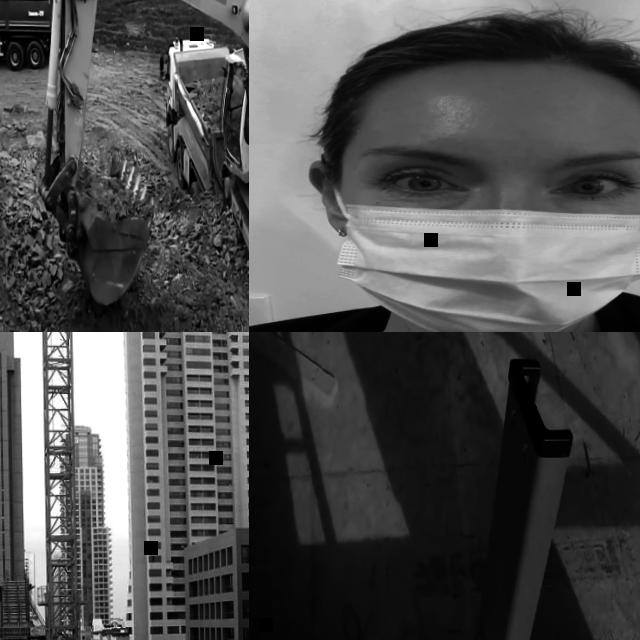Mask: (327, 154, 640, 332)
NO-Hardhat: (331, 10, 640, 120)
Person: (249, 8, 640, 332), (245, 115, 249, 141)
machinery: (31, 0, 249, 332), (159, 32, 233, 196), (0, 0, 58, 73)
